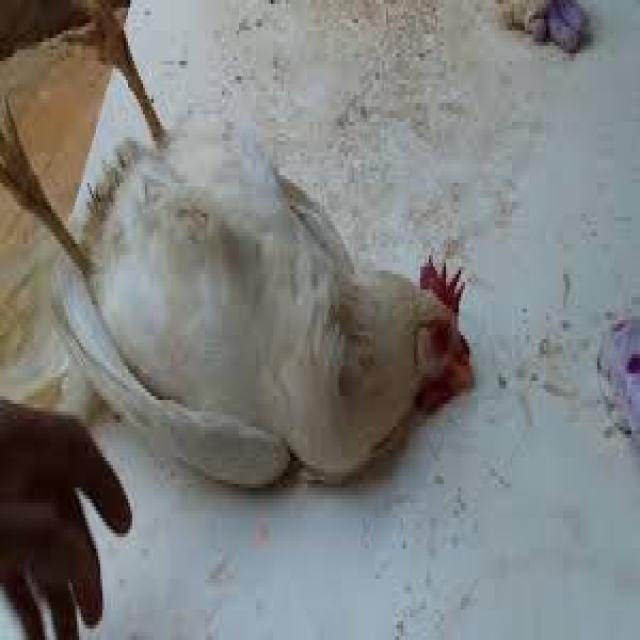Unhealthy: (7, 89, 503, 502)
